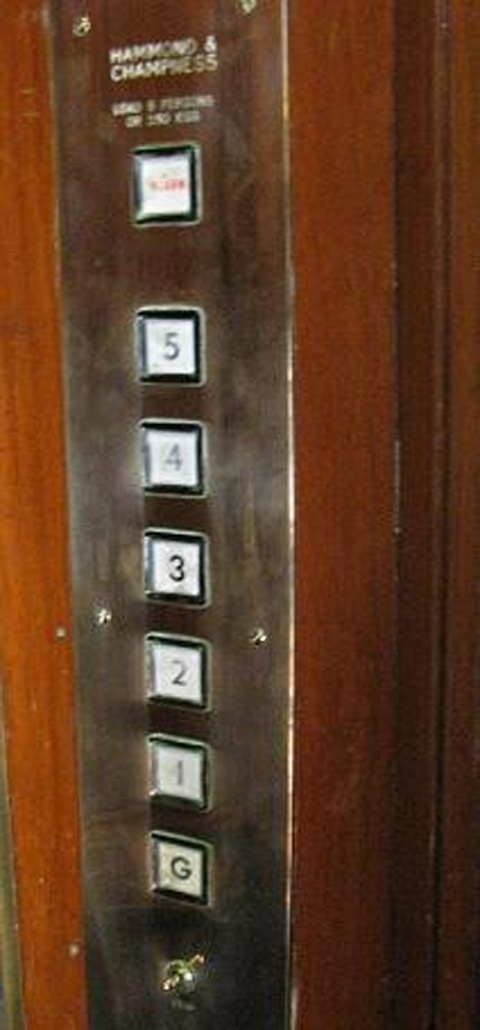1: (144, 731, 213, 815)
2: (142, 631, 213, 715)
3: (141, 526, 211, 610)
4: (136, 417, 209, 500)
5: (134, 305, 208, 389)
G: (147, 828, 213, 910)
switch: (154, 953, 210, 1003)
text_blur: (130, 142, 204, 229)
